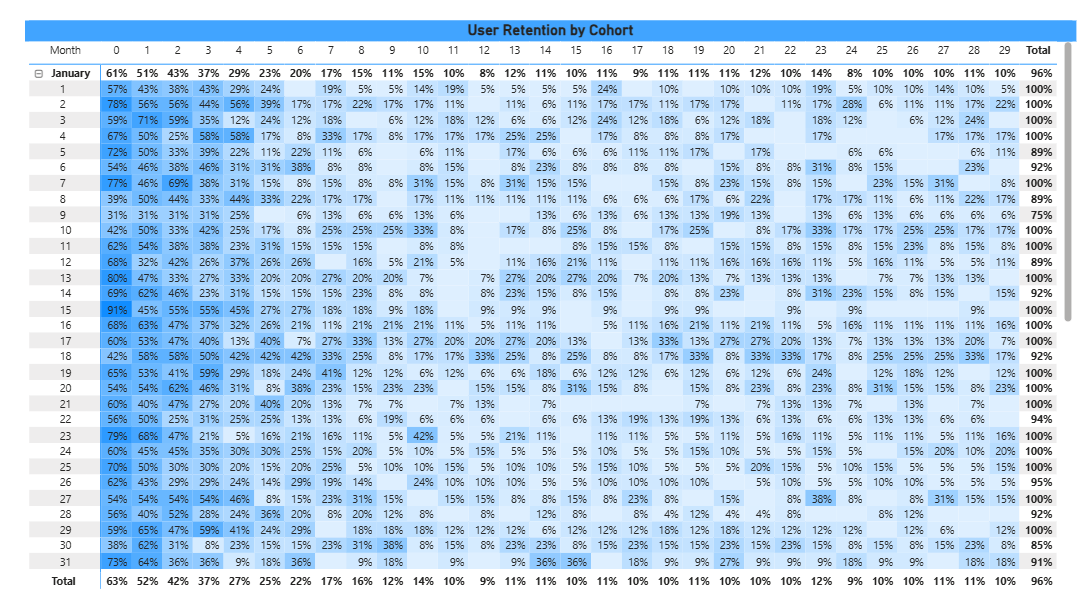

The page's visual inventory and layout, read from the dashboard file:
{"tool":"powerbi","page":{"name":"Retention","canvas":[1280,720],"ordinal":3},"visuals":[{"type":"pivotTable","title":"User Retention by Cohort","fields":{"Rows":["saas_users.signup_date.Variation.Date Hierarchy.Month","saas_users.signup_date.Variation.Date Hierarchy.Day"],"Columns":["saas_events.Day Number"],"Values":["saas_users.Retention Rate"]},"box":[40,48.6,1201.4,654.3],"z":2}]}

Visuals, with their boxes in screenshot pixels (x1, y1, x2, y2), scaled from the page's 1280x720 canvas onto the 1092x597 screenshot:
"User Retention by Cohort" pivotTable: {"x1": 34, "y1": 40, "x2": 1059, "y2": 583}
